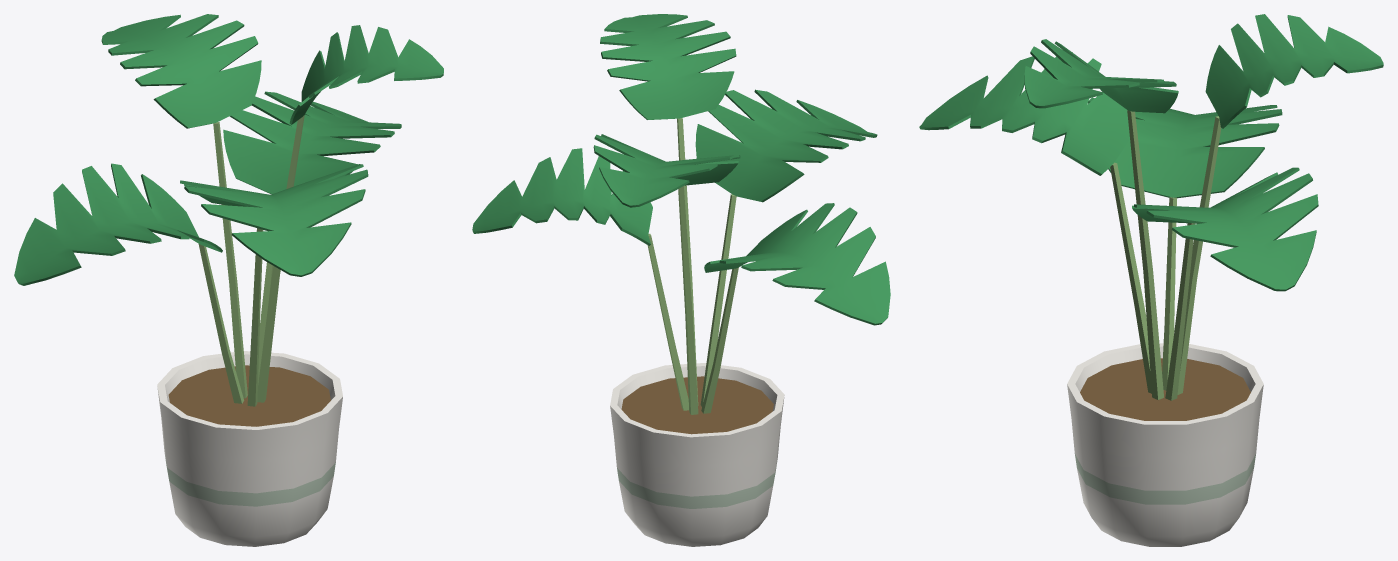
The model's file is furn_monstera.glb.
3 renders of one model, left to right at view 1: azimuth 30°, elevation 25°; view 2: azimuth 150°, elevation 25°; view 3: azimuth 270°, elevation 25°, orthographic. The views are drawn at different scales.
Parts seen in each view (by area): view 1: furn_monstera_body; view 2: furn_monstera_body; view 3: furn_monstera_body.
Boxes of the visible parts, <box> form: furn_monstera_body: <box>14,14,443,546</box>; furn_monstera_body: <box>472,14,890,546</box>; furn_monstera_body: <box>919,14,1383,546</box>.
Bounding box in the file's own units: 0.8874 × 0.9977 × 0.8499.
